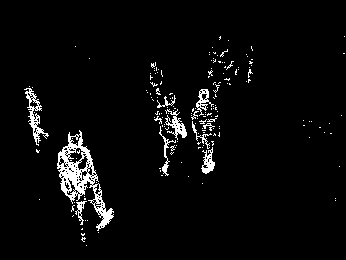person: (58, 129, 114, 242), (156, 93, 187, 175), (191, 88, 220, 174), (23, 87, 50, 153)
